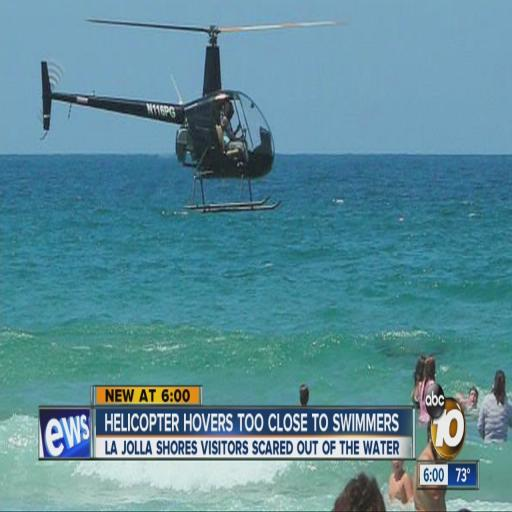helicopter: (38, 20, 346, 215)
